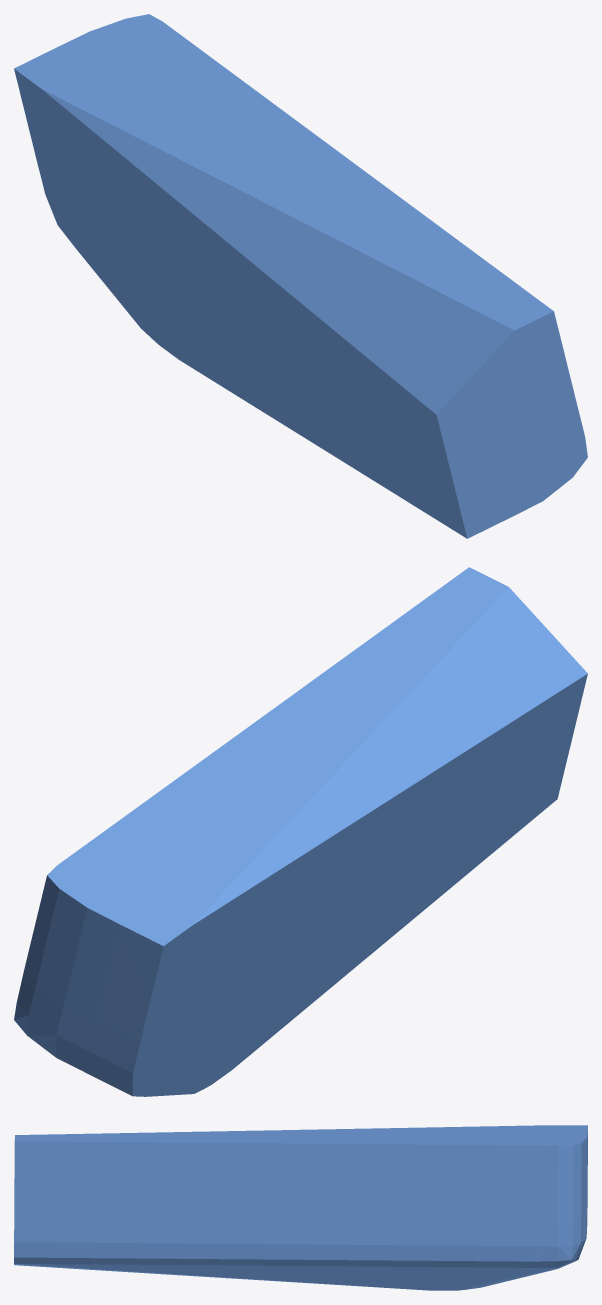
The model's file is converted_Downdraft_Assy_collision_6_73a3e7ff.obj.
3 renders of one model, top to bottom at view 1: azimuth 30°, elevation 25°; view 2: azimuth 150°, elevation 25°; view 3: azimuth 270°, elevation 25°, orthographic. The views are drawn at different scales.
Bounding box in the file's own units: 0.074 × 0.1119 × 0.3363.
